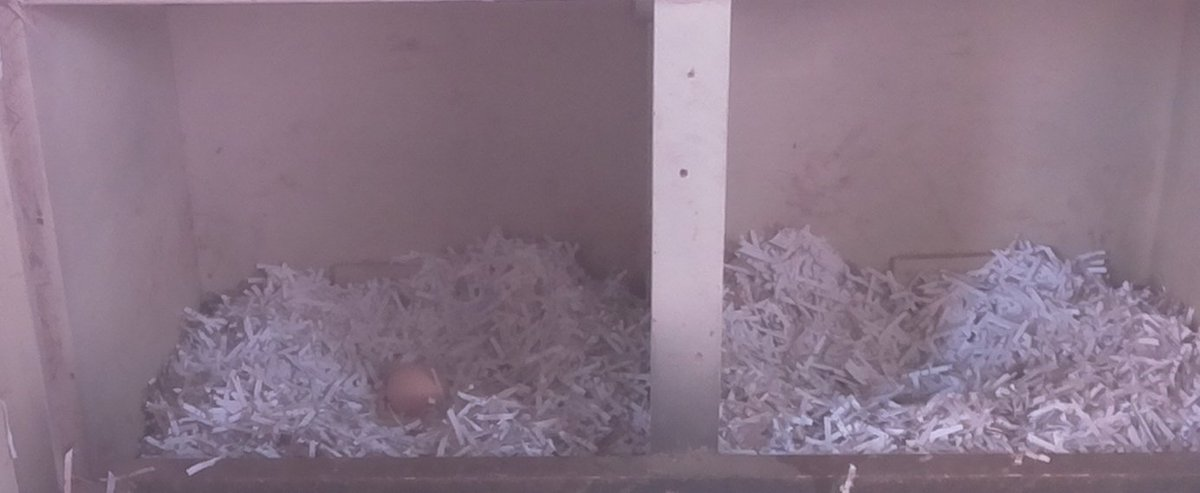egg: (378, 362, 455, 418)
